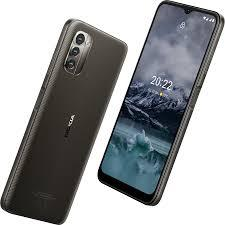Smartphone: (95, 2, 222, 215), (0, 21, 131, 225)
